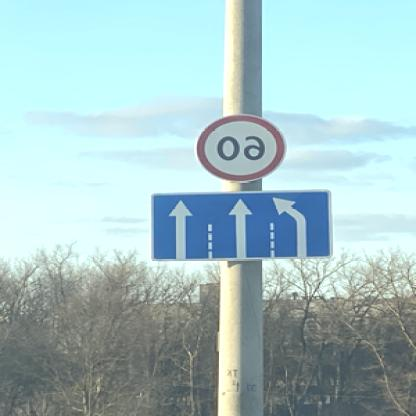speedlimit: (198, 112, 290, 182)
